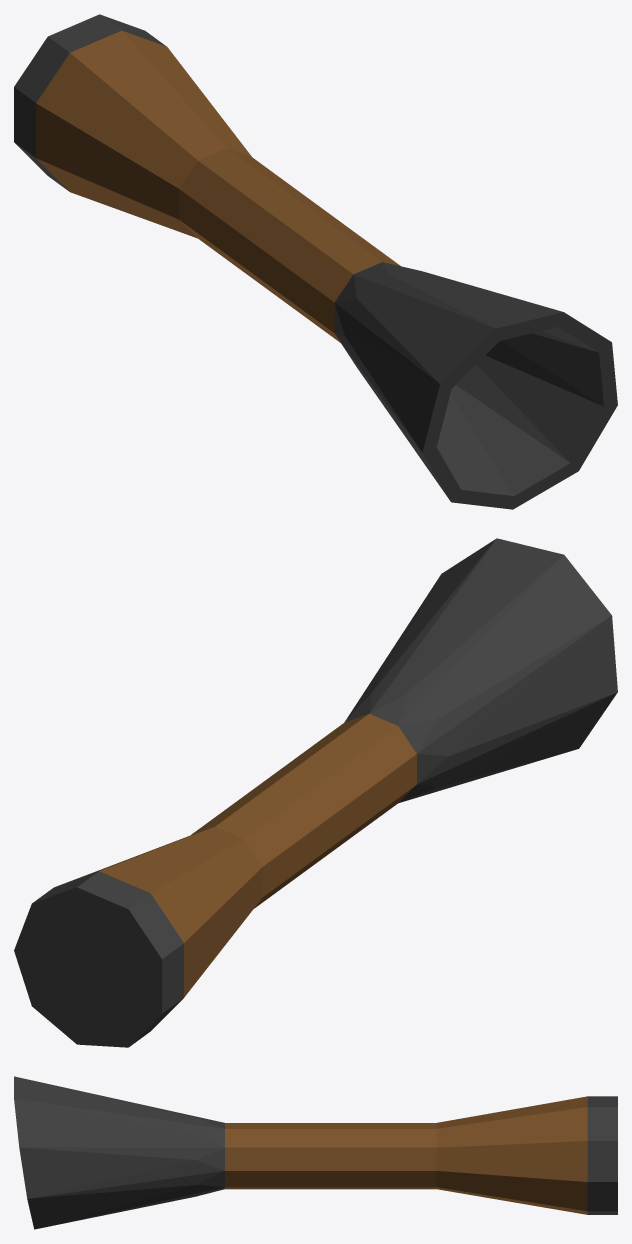
File: Weapon-Projectile-Stock.fbx
3 renders of one model, top to bottom at view 1: azimuth 30°, elevation 25°; view 2: azimuth 150°, elevation 25°; view 3: azimuth 270°, elevation 25°, orthographic. The views are drawn at different scales.
Visible parts, largest first — view 1: Weapon-Projectile-Stock; view 2: Weapon-Projectile-Stock; view 3: Weapon-Projectile-Stock.
Boxes of the visible parts, x1=… form: Weapon-Projectile-Stock: x1=14, y1=14, x2=617, y2=509; Weapon-Projectile-Stock: x1=14, y1=538, x2=617, y2=1047; Weapon-Projectile-Stock: x1=14, y1=1076, x2=617, y2=1229.
Size of the model in its own units: 254 by 251 by 999.
